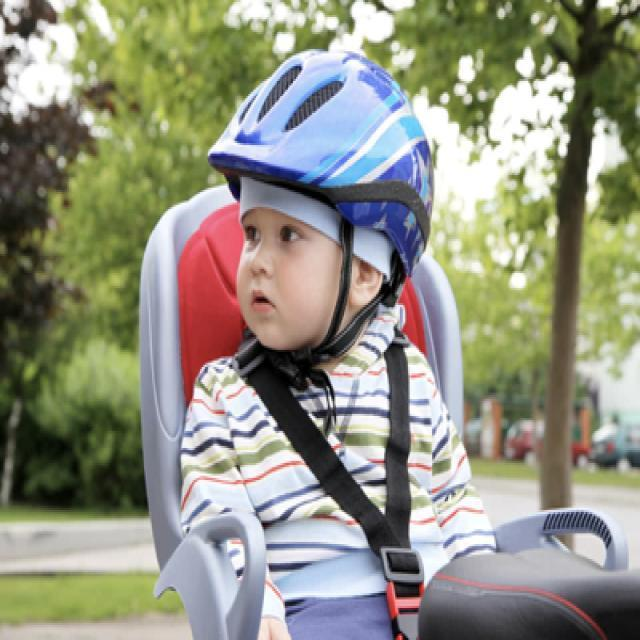Helmet: (208, 29, 454, 357)
